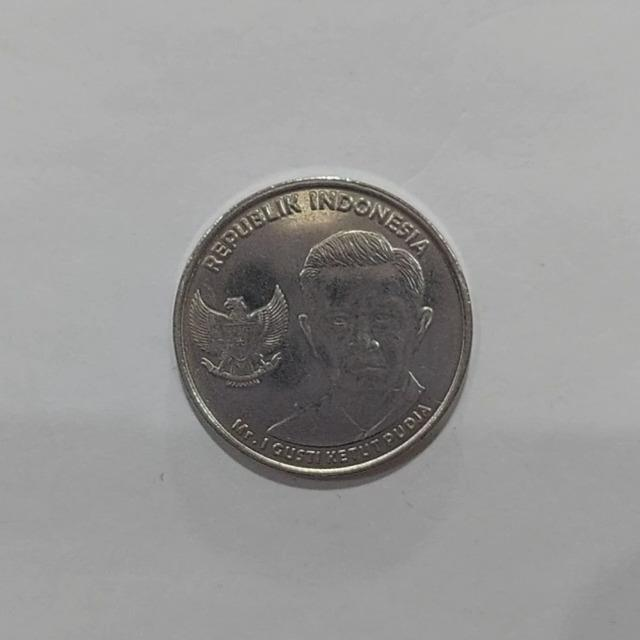Rp100: (171, 172, 475, 484), (262, 225, 437, 448)
